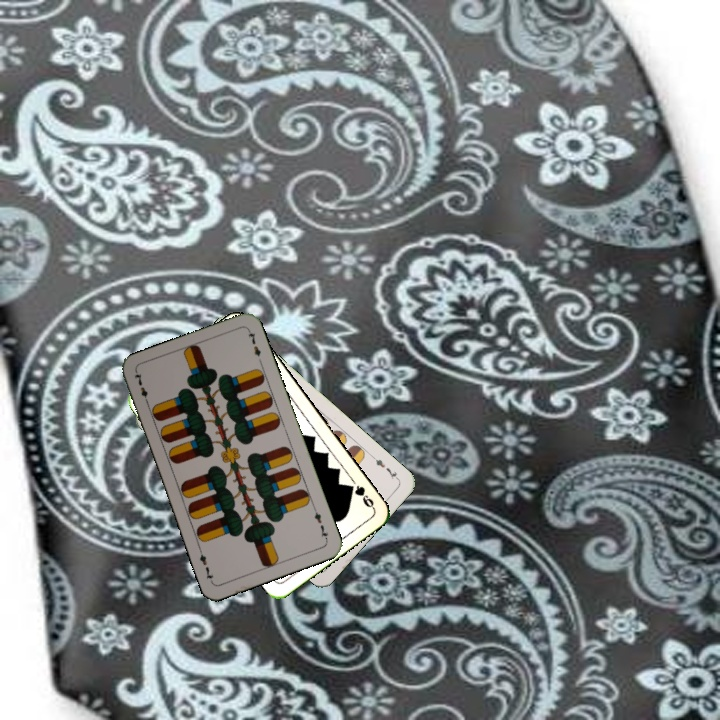E7: (368, 452, 402, 482), (309, 504, 331, 543), (130, 368, 151, 408)
G9: (343, 481, 377, 512)
